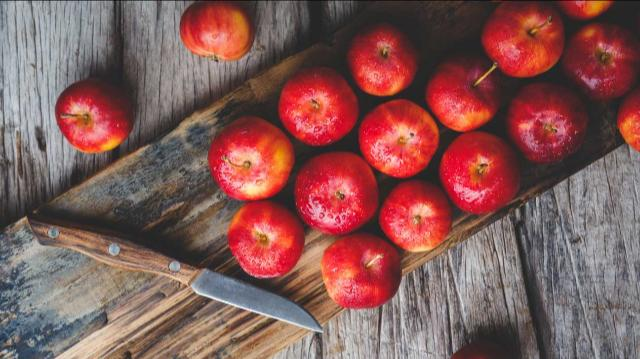Apples: (210, 116, 294, 198), (298, 153, 377, 233), (424, 52, 504, 130), (483, 1, 565, 76), (444, 133, 520, 213), (359, 100, 438, 176), (566, 19, 640, 99), (322, 232, 398, 308), (512, 83, 586, 161), (54, 82, 132, 154), (282, 70, 356, 144), (230, 203, 300, 277), (380, 182, 450, 250), (350, 26, 418, 95), (181, 0, 253, 61)
